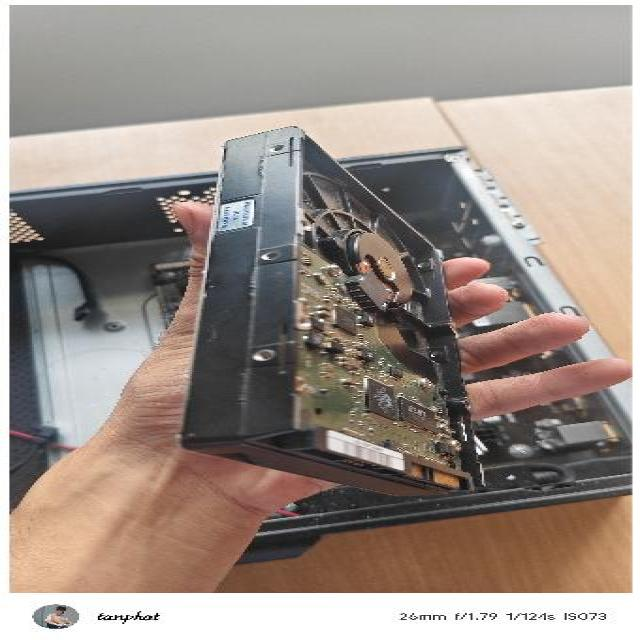DISK: (171, 120, 493, 500)
